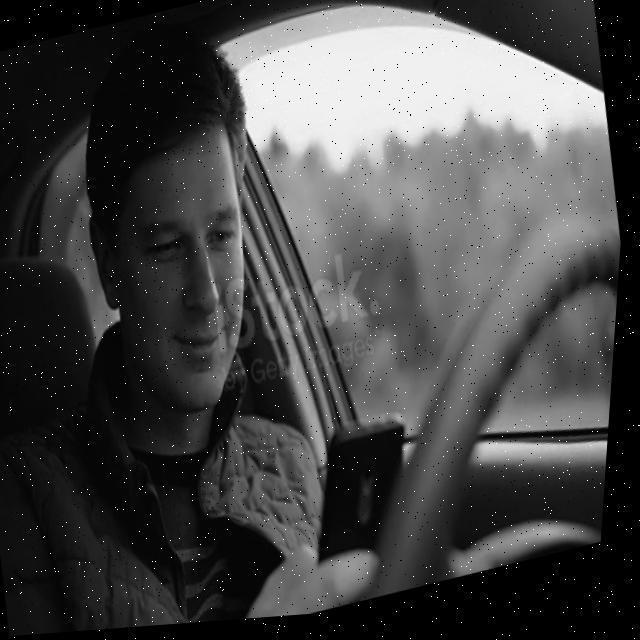PhoneCall: (302, 412, 434, 576)
